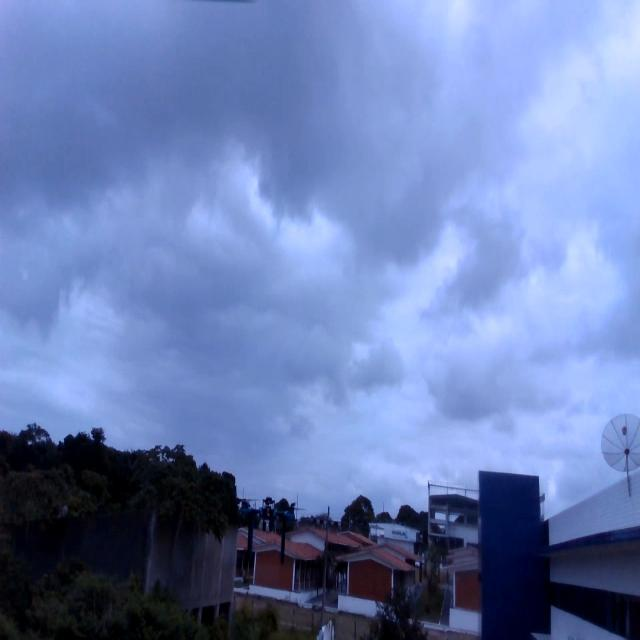-uav-: (222, 495, 306, 578)
